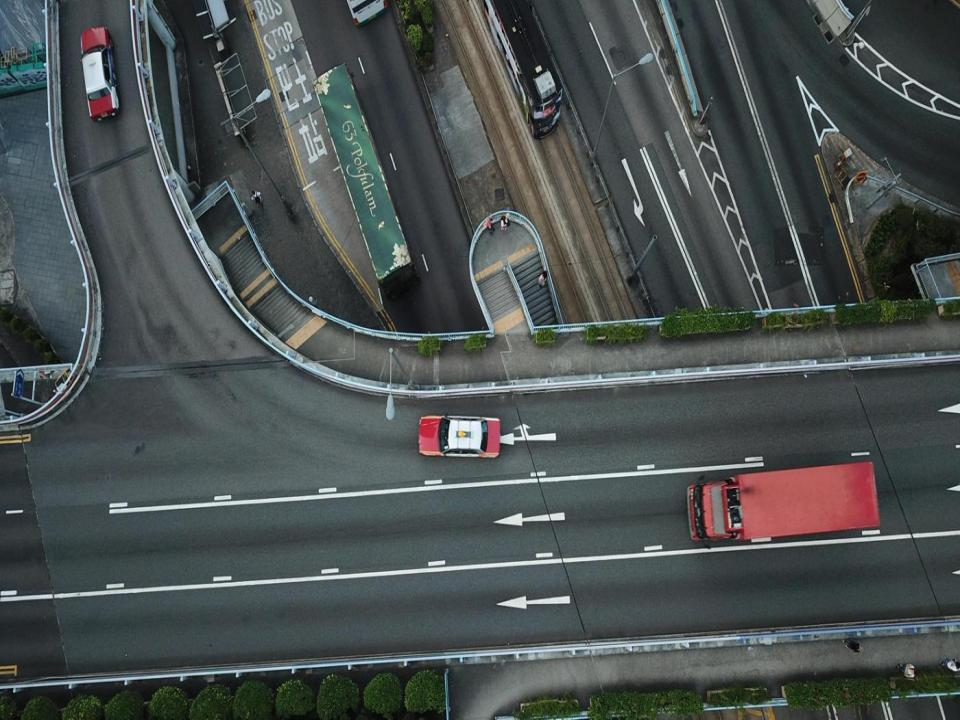bus: (313, 60, 421, 300), (480, 1, 564, 139)
car: (417, 414, 499, 459), (80, 26, 118, 122)
truck: (687, 459, 881, 544)
